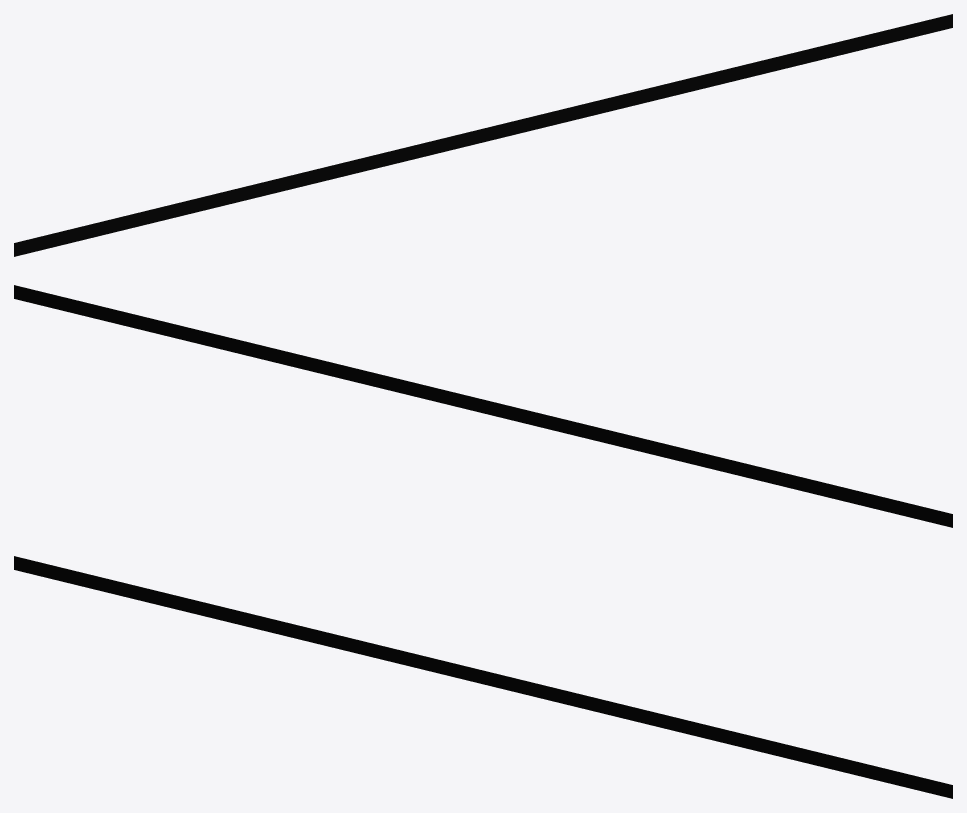
Rendered from LAKETOWN_WAREHOUSE2_PS_WH2_GRIMELAYER93941.fbx.
The picture shows the model from 3 angles, top to bottom: view 1: azimuth 30°, elevation 25°; view 2: azimuth 150°, elevation 25°; view 3: azimuth 330°, elevation 25°; orthographic projection.
Parts seen in each view (by area): view 1: LAKETOWN_WAREHOUSE2_PS_WH2_GRIMELAYER93941; view 2: LAKETOWN_WAREHOUSE2_PS_WH2_GRIMELAYER93941; view 3: LAKETOWN_WAREHOUSE2_PS_WH2_GRIMELAYER93941.
Boxes of the visible parts, x1=… form: LAKETOWN_WAREHOUSE2_PS_WH2_GRIMELAYER93941: x1=14, y1=14, x2=952, y2=256; LAKETOWN_WAREHOUSE2_PS_WH2_GRIMELAYER93941: x1=14, y1=285, x2=952, y2=527; LAKETOWN_WAREHOUSE2_PS_WH2_GRIMELAYER93941: x1=14, y1=556, x2=952, y2=798.
Size of the model in its own units: 218212 by 3078 by 0.0219.
1 material, 1 textured.
